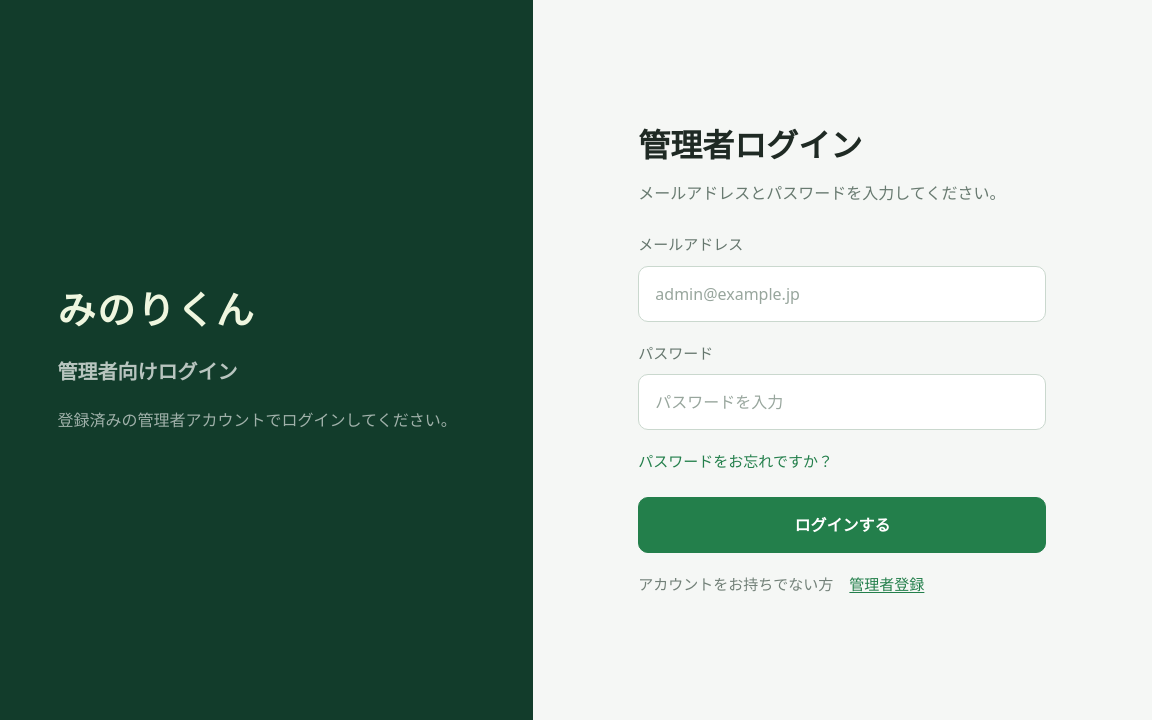
Admin Login › shows a retryable service error when the API is unavailable
Type "admin@example.test" into the field with id "admin-email" at coordinates (842, 294), box [638,266,1046,322]
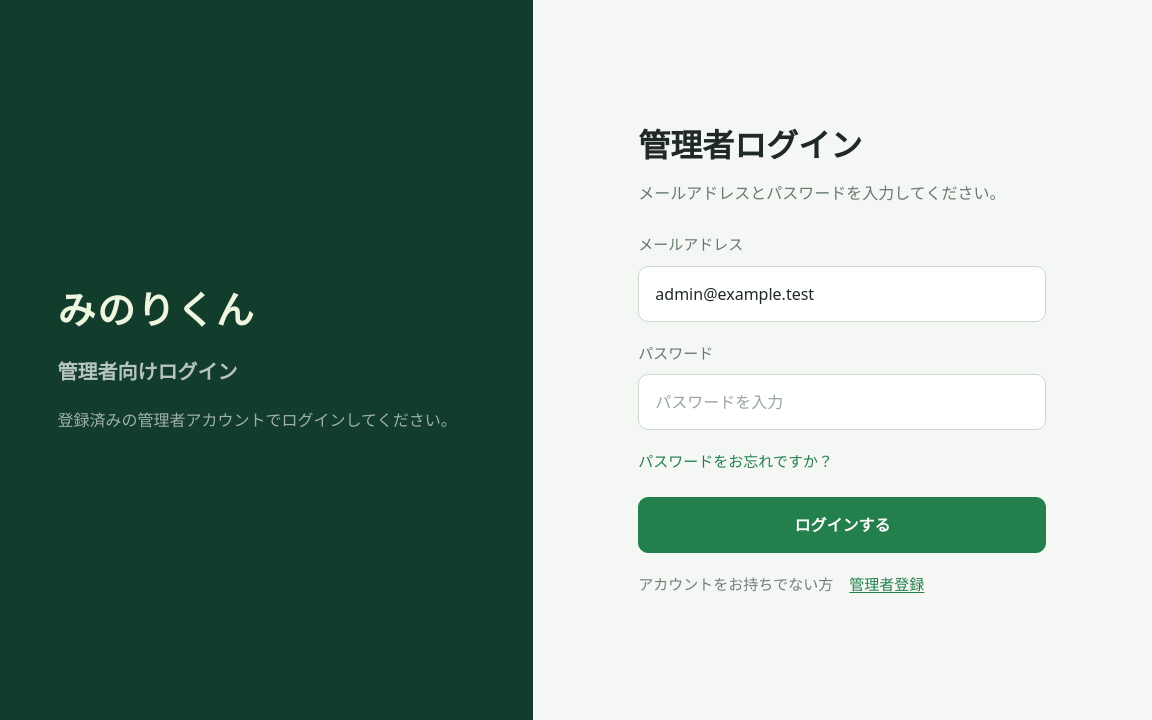
Type "secret-password" into the password field with id "admin-password" at coordinates (842, 402), box [638,374,1046,430]
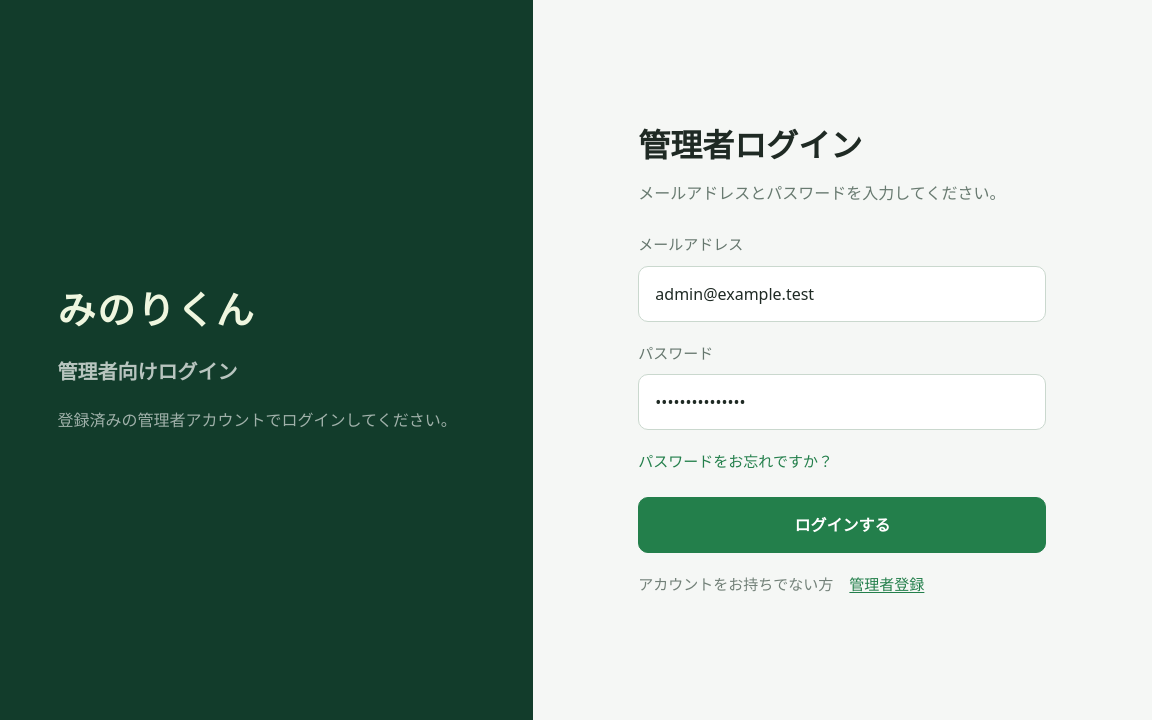
Submit the form, box [638,125,1046,595]
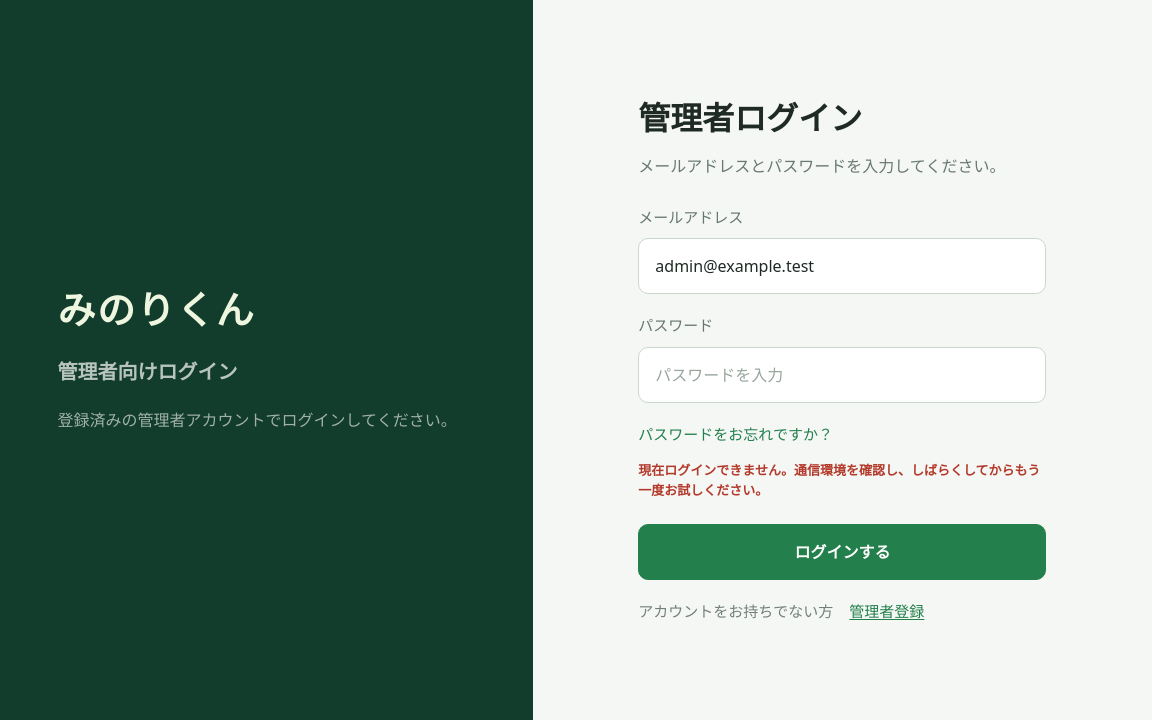
Expected: the message "現在ログインできません。通信環境を確認し、しばらくしてからもう一度お試しください。" is shown, [638,461,1046,500]
Expected: the password field with id "admin-password" is empty, [638,346,1046,402]
